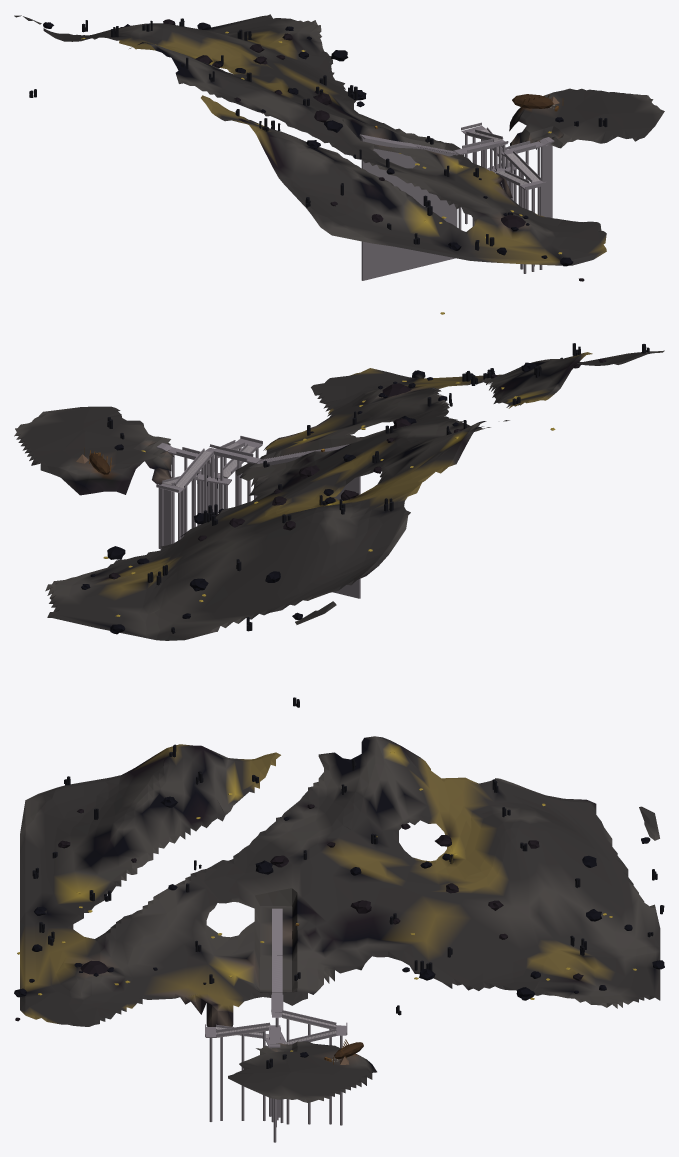
File: ash_isl_ember_wreck_lod1.glb
The picture shows the model from 3 angles, top to bottom: view 1: azimuth 30°, elevation 25°; view 2: azimuth 150°, elevation 25°; view 3: azimuth 270°, elevation 25°; orthographic projection. The views are drawn at different scales.
Visible parts, largest first — view 1: geometry_0; view 2: geometry_0; view 3: geometry_0.
Part boxes in pixels (box(x1,y1,x2,y2)): geometry_0: box(14, 14, 664, 314); geometry_0: box(14, 343, 664, 707); geometry_0: box(14, 736, 664, 1142).
Size of the model in its own units: 200 by 97.85 by 244.
